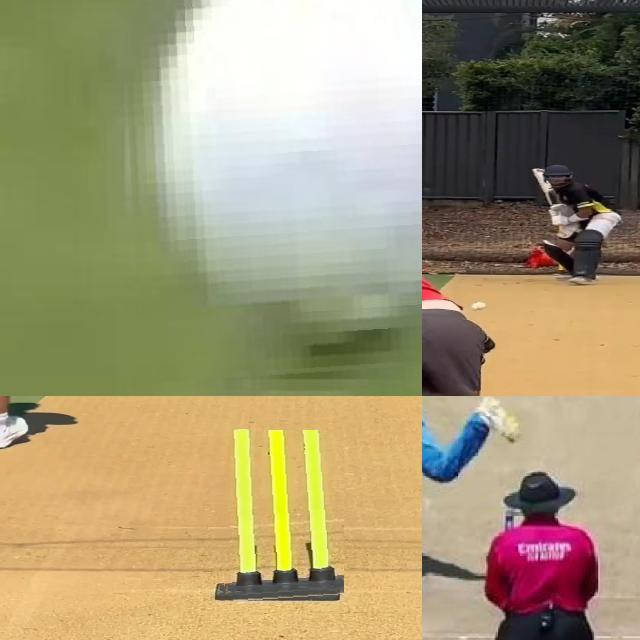Cricket ball: (118, 0, 422, 384), (469, 301, 488, 312)
Stumps: (216, 430, 344, 602)
